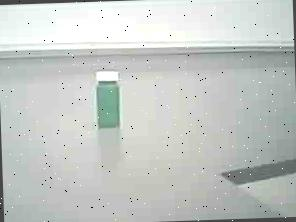Bottle C: (81, 62, 132, 140)
